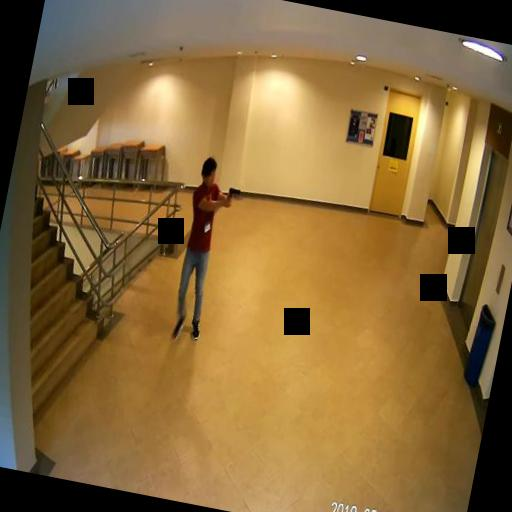Handgun: (224, 184, 240, 206)
